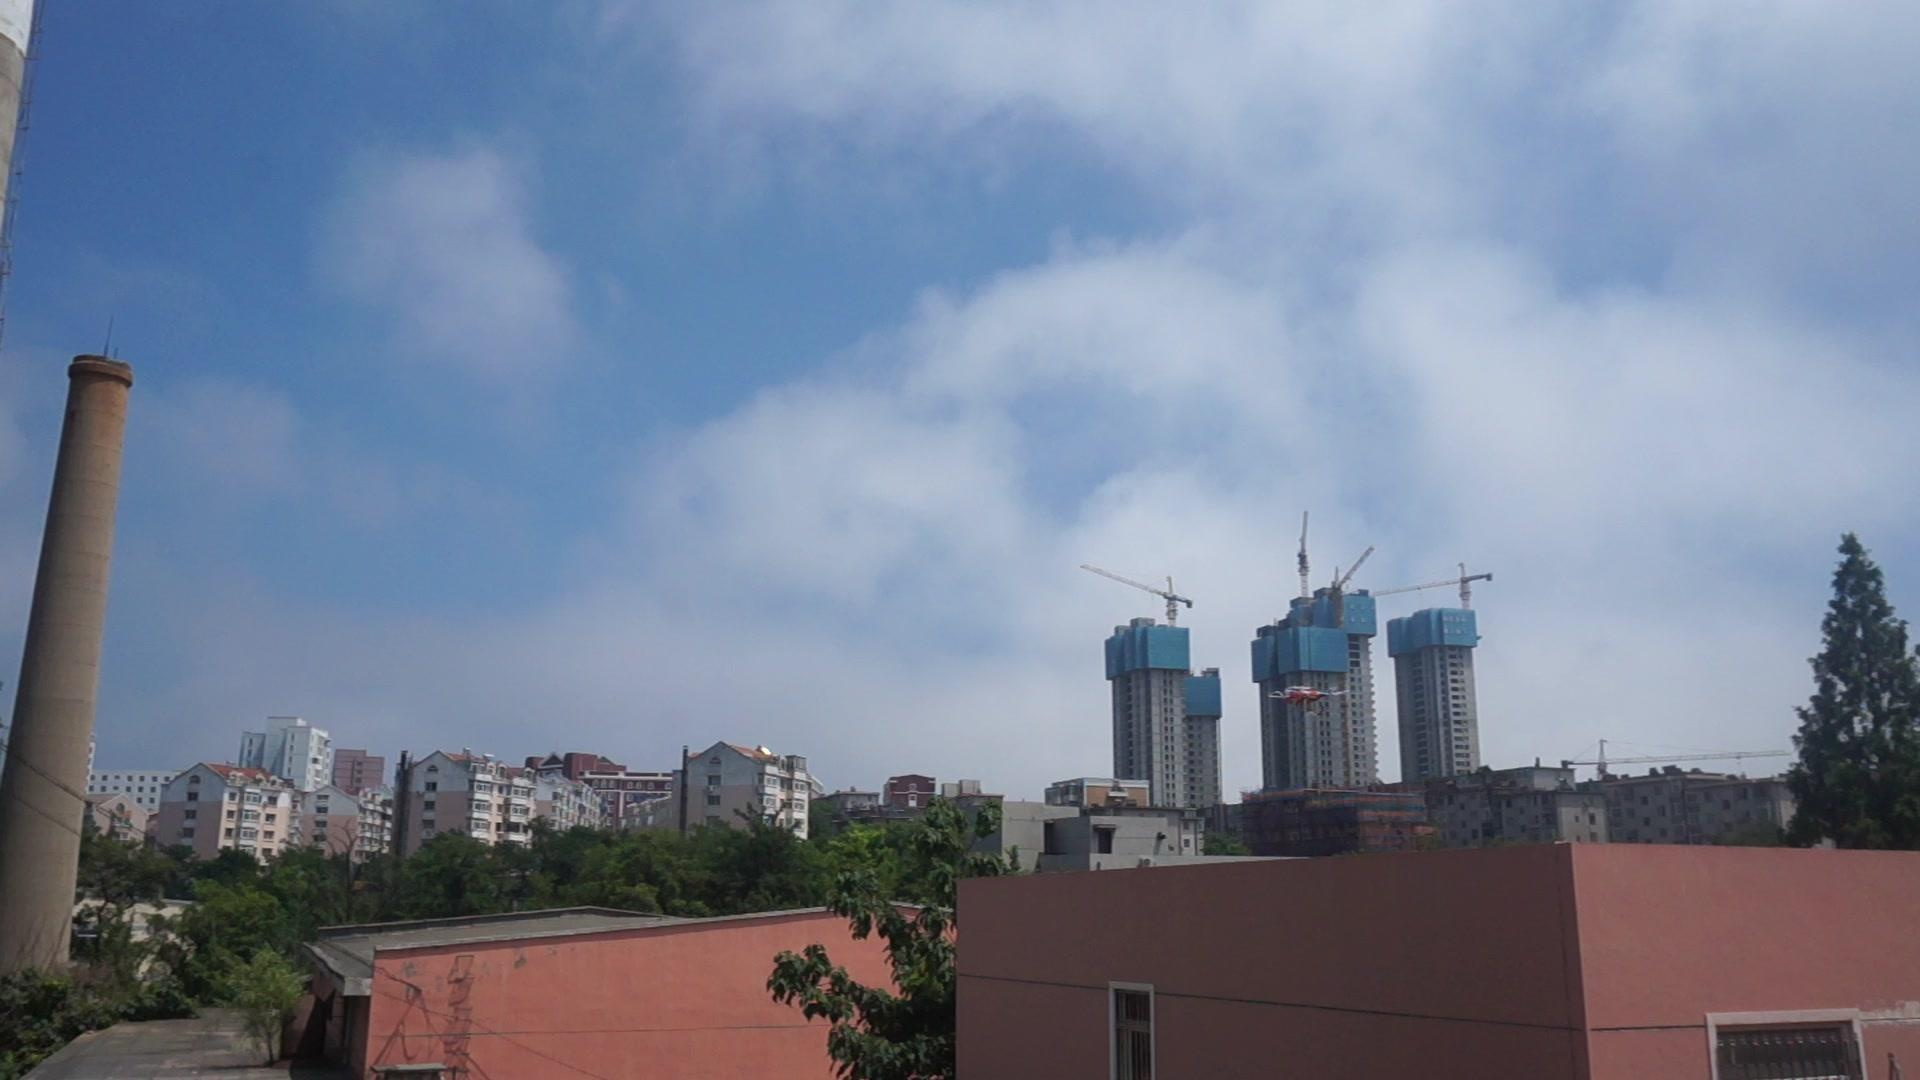UAV: (1269, 687, 1349, 712)
